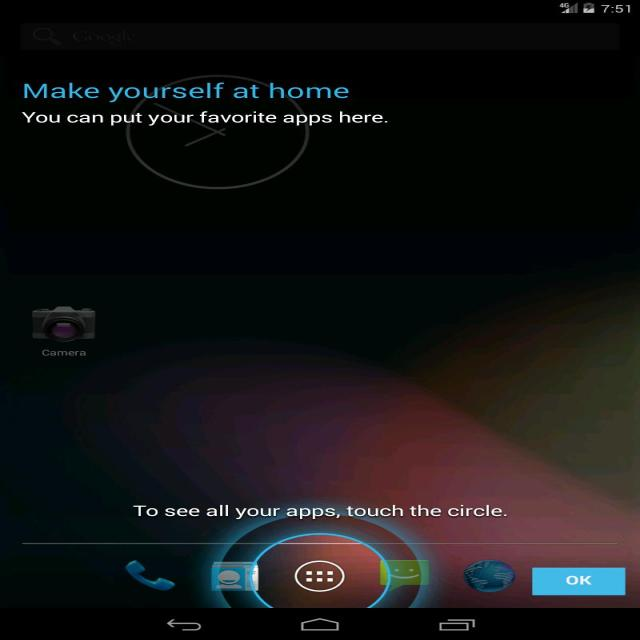button: (25, 304, 108, 362), (115, 556, 190, 597), (286, 556, 352, 599), (369, 556, 442, 592), (202, 556, 263, 599), (534, 567, 623, 596), (458, 555, 517, 598)
heading: (14, 78, 353, 106)
text: (129, 502, 512, 523), (19, 110, 389, 128)
